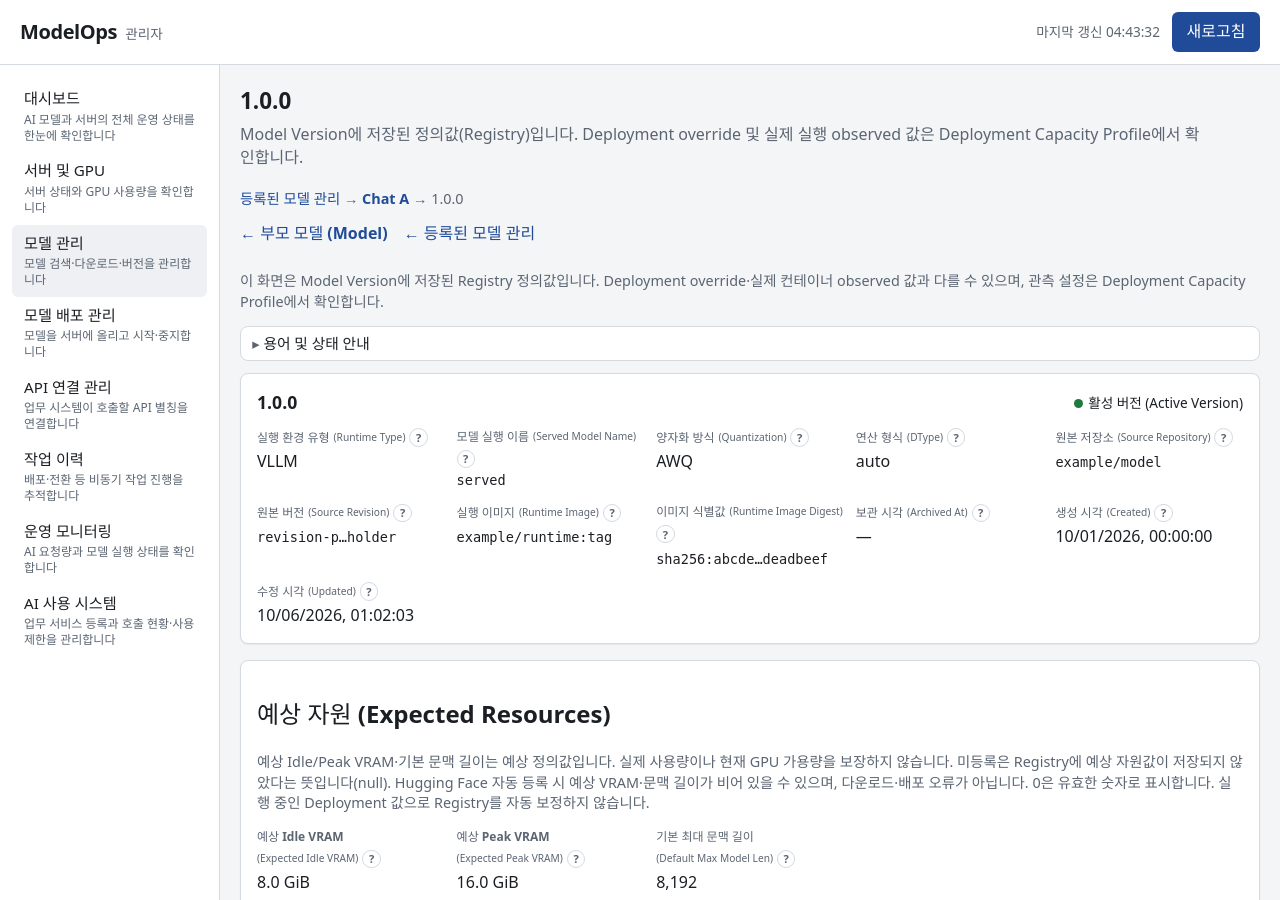
ModelVersionDetailPage › clears stale Version and shows not-found on Version GET 404 refresh
Expected: the heading "1.0.0" in the row of "활성 버전 (Active Version)" is shown, top-left (257, 390), bottom-right (297, 416)
Click the button "새로고침".
click(1216, 32)  # box top-left (1172, 12), bottom-right (1260, 52)
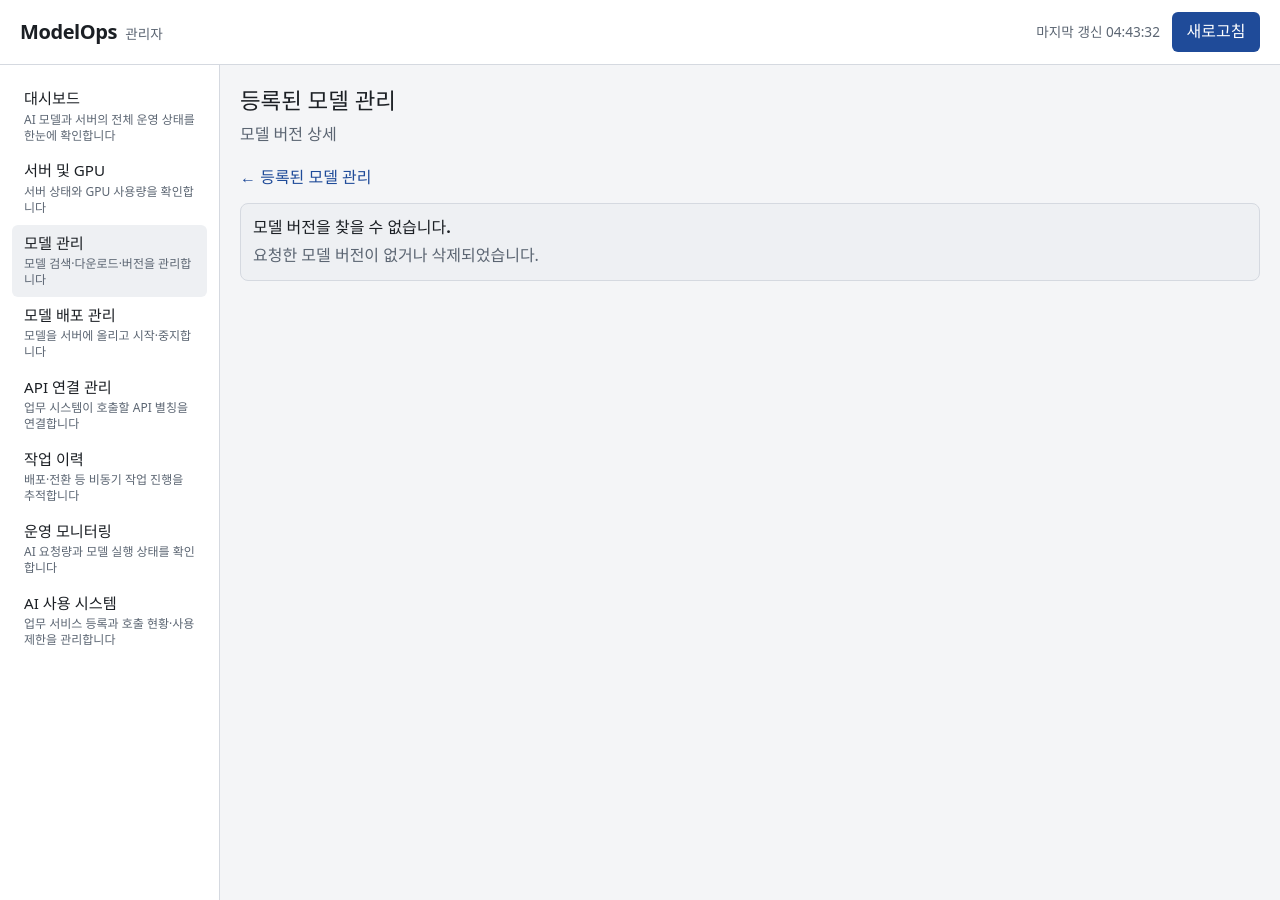
Now the text "모델 버전을 찾을 수 없습니다." is shown, box top-left (253, 216), bottom-right (451, 238)
Now the heading "1.0.0" is gone
